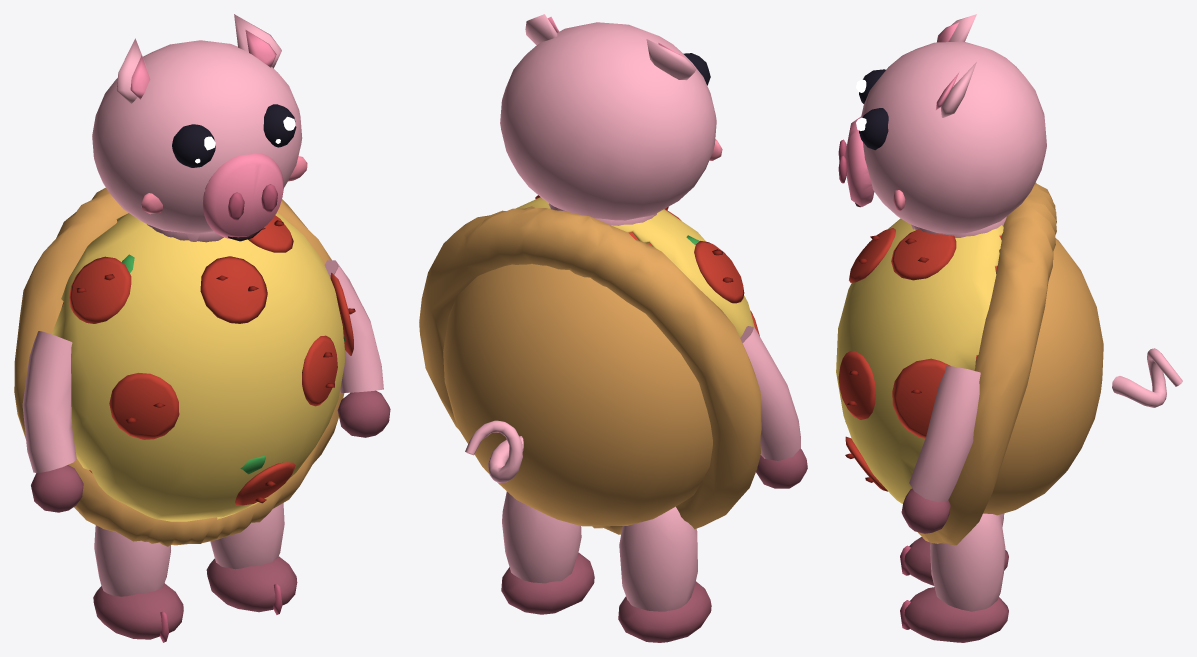
The model's file is pilot_gris2_pizza_lav.glb.
The picture shows the model from 3 angles, left to right: view 1: azimuth 30°, elevation 25°; view 2: azimuth 150°, elevation 25°; view 3: azimuth 270°, elevation 25°; orthographic projection. The views are drawn at different scales.
Visible parts, largest first — view 1: kropp, hode, vinge_v, bein_vf, bein_hf, vinge_h; view 2: kropp, hode, bein_vf, bein_hf, vinge_v, hale; view 3: kropp, hode, bein_hf, vinge_h, hale, bein_vf.
Part boxes in pixels (x1,y1,x2,y2): kropp: [14, 187, 355, 546]; hode: [92, 14, 307, 242]; vinge_v: [22, 331, 83, 512]; bein_vf: [93, 525, 183, 642]; bein_hf: [206, 503, 297, 614]; vinge_h: [324, 260, 390, 437]; kropp: [419, 195, 761, 534]; hode: [500, 14, 722, 225]; bein_vf: [618, 506, 711, 642]; bein_hf: [501, 491, 594, 614]; vinge_v: [740, 326, 807, 488]; hale: [465, 420, 523, 482]; kropp: [836, 182, 1103, 545]; hode: [838, 14, 1046, 237]; bein_hf: [900, 513, 1008, 642]; vinge_h: [901, 366, 980, 533]; hale: [1112, 348, 1182, 407]; bein_vf: [900, 513, 1008, 585].
Bounding box in the file's own units: 1.06 × 1.67 × 0.9181.
